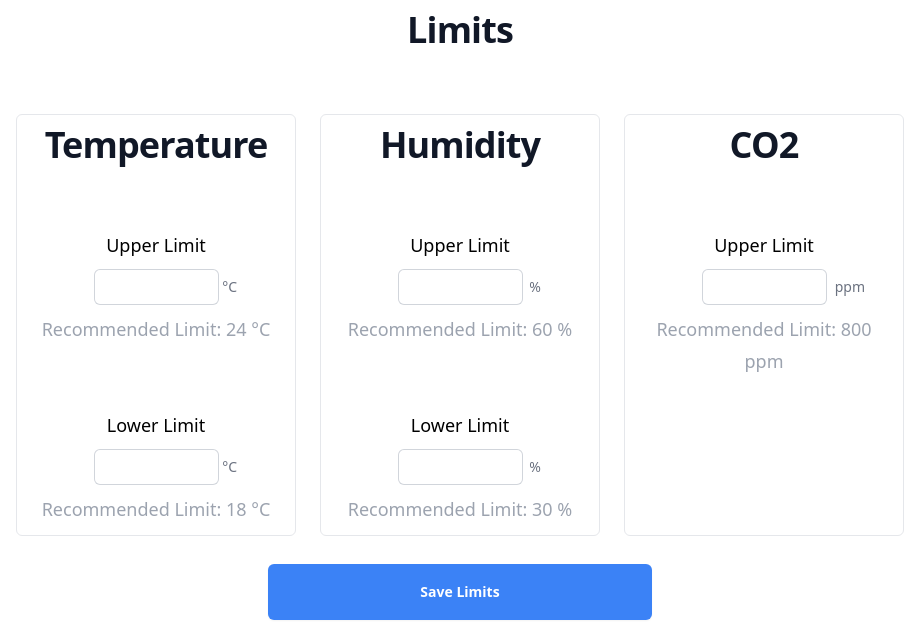
Test: Limits › handleLTempChange function › should update Lower Temperature state with sanitized value
Note: Simulate a change event on the input
In the field with test id "tempLow-input": (156,467) left=94, top=449, right=218, bottom=485, type "1A.aslkd 5"
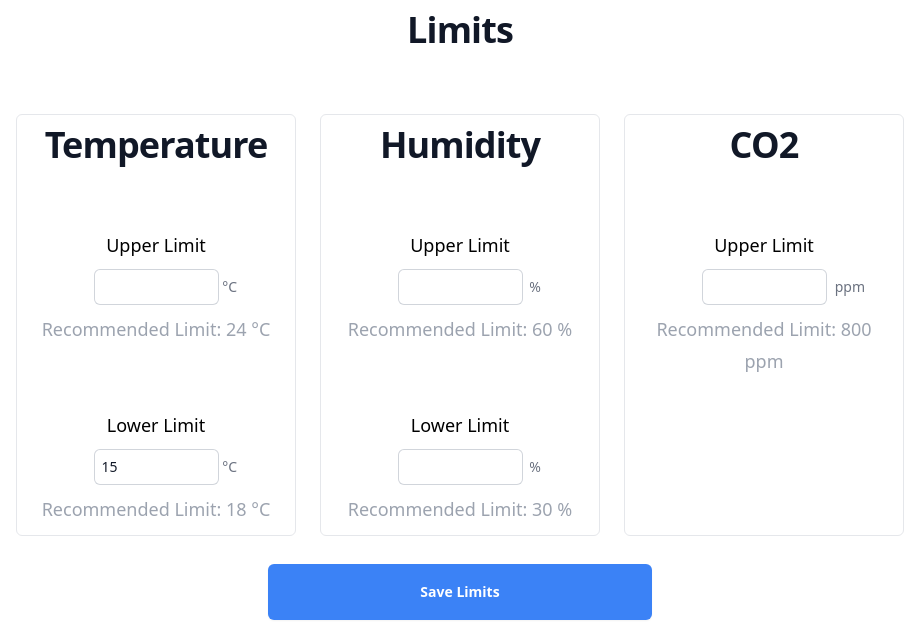
Expected: the field with test id "tempLow-input" holds "15", left=94, top=449, right=218, bottom=485
